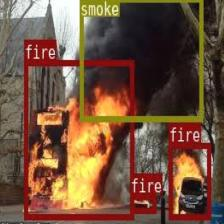fire: (24, 60, 133, 219), (168, 142, 210, 218), (130, 192, 155, 212)
smoke: (79, 0, 202, 121)
